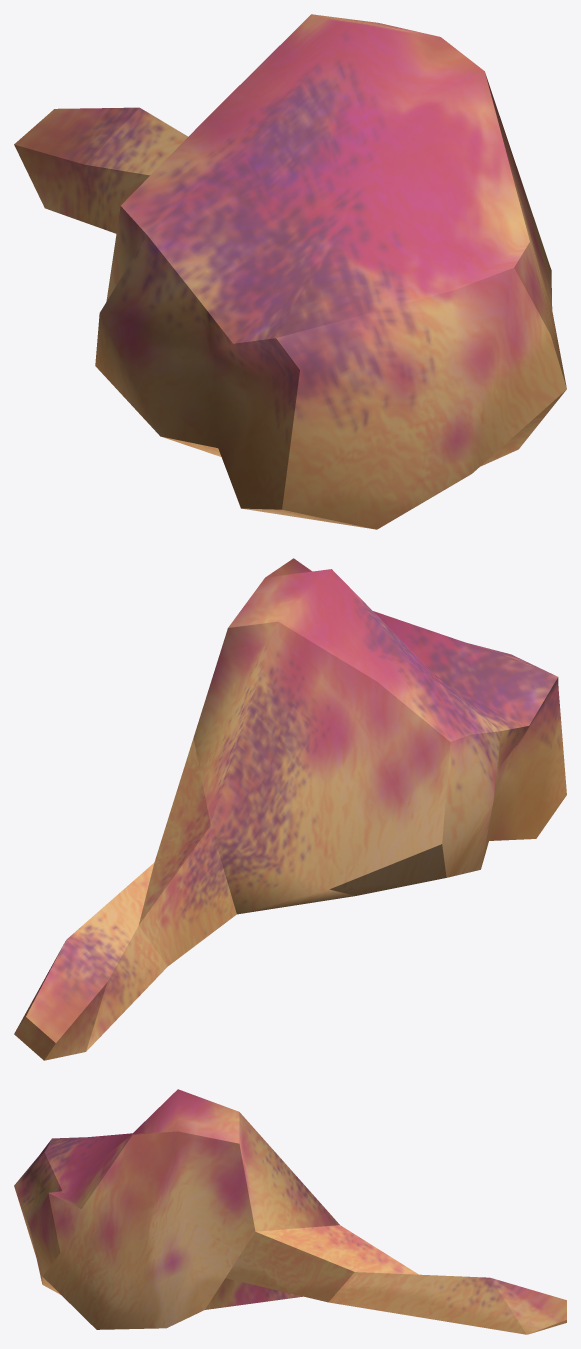
The model's file is Rock_Four.fbx.
3 views of the same model, one above another, from view 1: azimuth 30°, elevation 25°; view 2: azimuth 150°, elevation 25°; view 3: azimuth 270°, elevation 25° (orthographic). The views are drawn at different scales.
Visible parts, largest first — view 1: pCube4; view 2: pCube4; view 3: pCube4.
Part boxes in pixels (box(x1,y1,x2,y2)): pCube4: box(14, 14, 566, 529); pCube4: box(14, 558, 566, 1060); pCube4: box(14, 1089, 566, 1334).
Size of the model in its own units: 1.38 by 1.4 by 3.06.
Materials: 1 (1 with a texture image).
